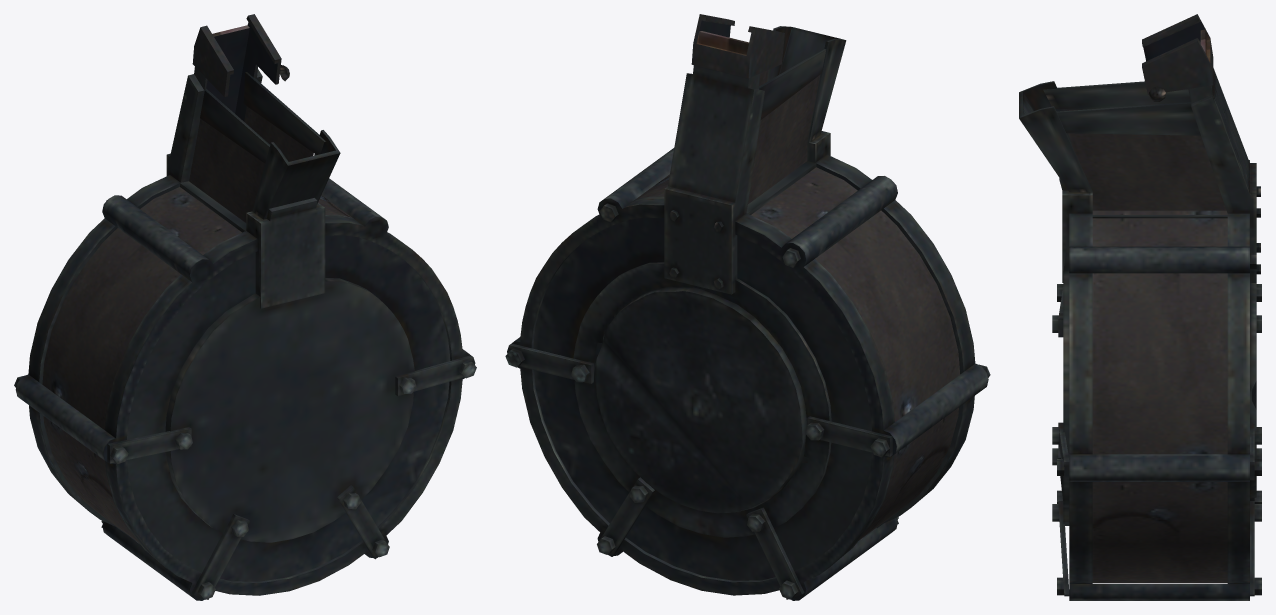
File: magbig.obj
The picture shows the model from 3 angles, left to right: view 1: azimuth 30°, elevation 25°; view 2: azimuth 150°, elevation 25°; view 3: azimuth 270°, elevation 25°; orthographic projection. The views are drawn at different scales.
Parts seen in each view (by area): view 1: wpn34_saiga; view 2: wpn34_saiga; view 3: wpn34_saiga.
Part boxes in pixels (<box>): wpn34_saiga: <box>14,14,476,600</box>; wpn34_saiga: <box>505,14,990,600</box>; wpn34_saiga: <box>1019,14,1261,600</box>.
Size of the model in its own units: 0.1614 by 0.2177 by 0.0886.
Materials: 1 (1 with a texture image).
